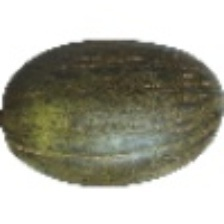honeydew: (29, 24, 214, 186)
